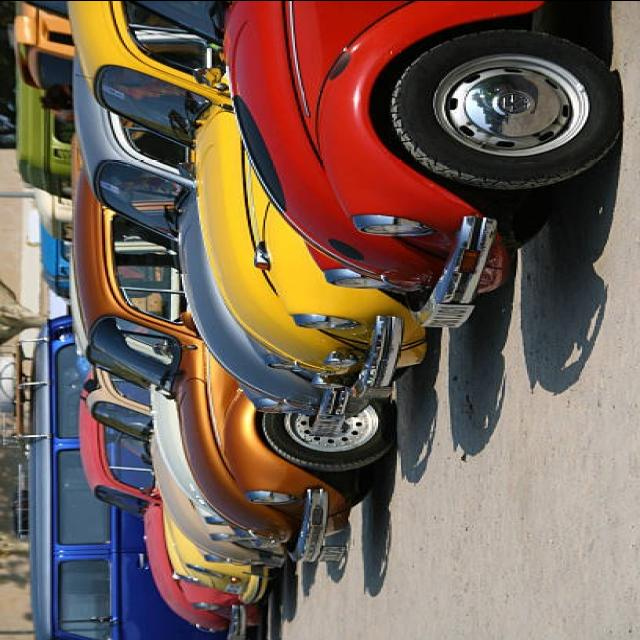car: (66, 104, 403, 548), (129, 0, 611, 298)
